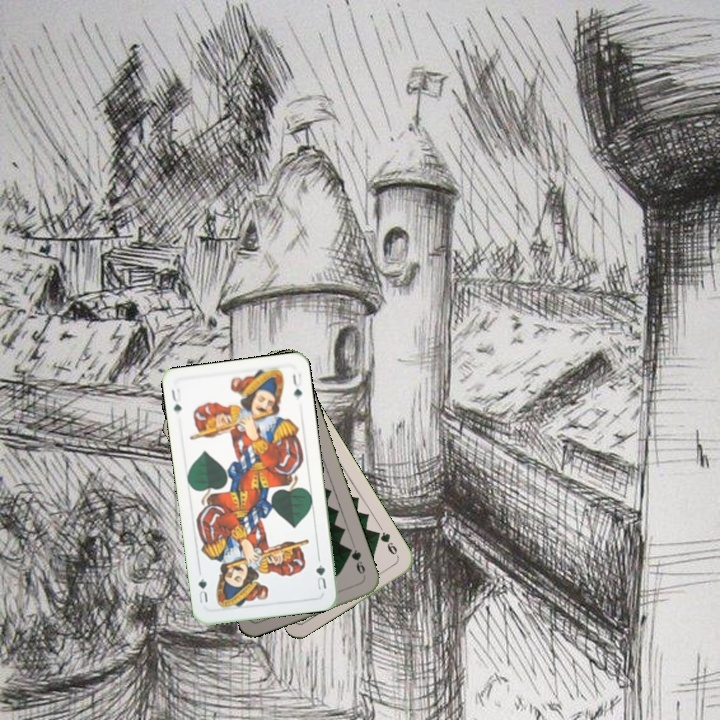G9: (371, 527, 401, 561), (344, 544, 368, 581)
GU: (167, 384, 184, 418), (312, 560, 329, 592)
